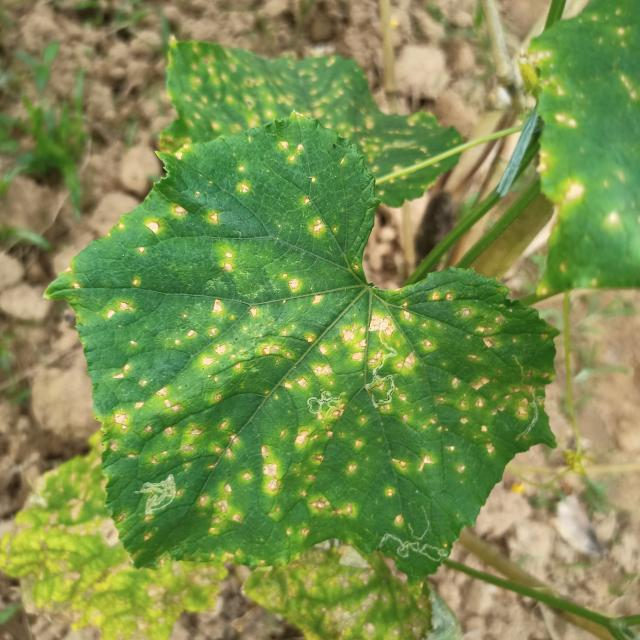disease_cucumber: (85, 288, 549, 546), (301, 194, 340, 241), (279, 270, 328, 306), (169, 202, 225, 226), (135, 218, 162, 256), (234, 162, 254, 200), (217, 248, 240, 279), (279, 137, 304, 164)
